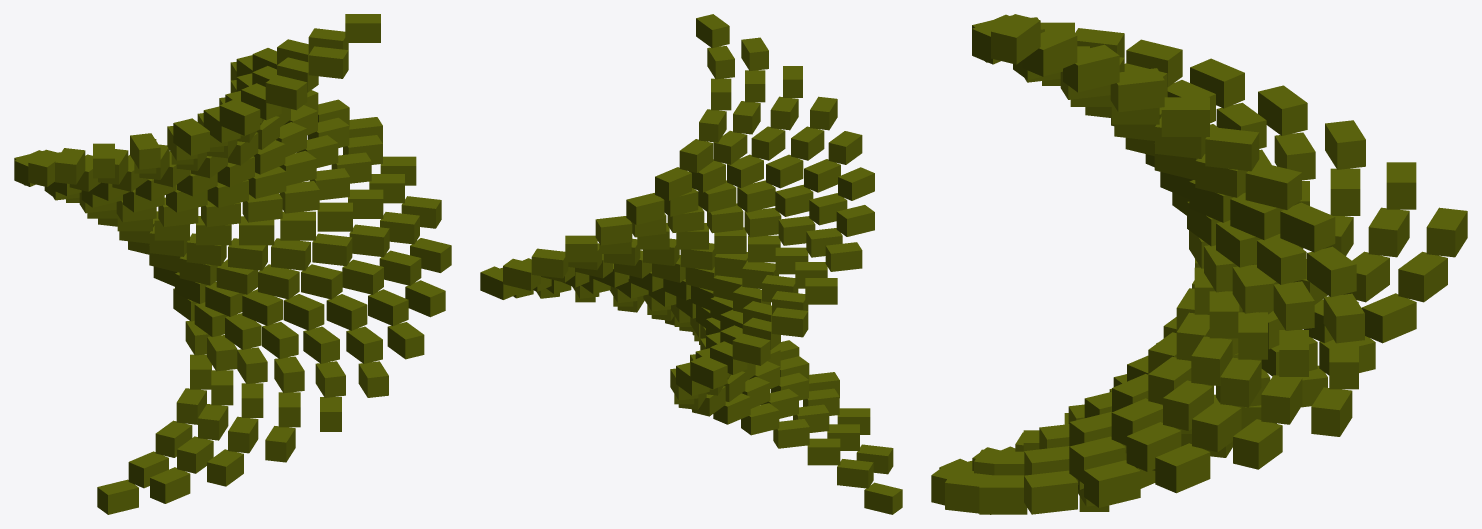
The model's file is GR_Spiral_0x00.fbx.
3 renders of one model, left to right at view 1: azimuth 30°, elevation 25°; view 2: azimuth 150°, elevation 25°; view 3: azimuth 270°, elevation 25°, orthographic. The views are drawn at different scales.
Visible parts, largest first — view 1: pCube1 (×12), pCube2 (×12), pCube3 (×11), pCube4 (×11), pCube5 (×10), pCube12 (×10), pCube6 (×10), pCube7 (×8), pCube8 (×6), pCube11 (×5), pCube9 (×4), pCube10 (×2); view 2: pCube12 (×12), pCube11 (×12), pCube10 (×9), pCube9 (×8), pCube8 (×7), pCube7 (×7), pCube6 (×7), pCube1 (×5), pCube2 (×5), pCube5 (×5), pCube3 (×4), pCube4 (×4); view 3: pCube12 (×9), pCube1 (×8), pCube11 (×7), pCube2 (×7), pCube3 (×7), pCube4 (×6), pCube5 (×6), pCube6 (×5), pCube10 (×4), pCube7 (×4), pCube8 (×5), pCube9 (×4).
Part boxes in pixels (box(x1,y1,x2,y2)): pCube1 (×12): box(97, 117, 451, 514); pCube2 (×12): box(128, 99, 421, 488); pCube3 (×11): box(155, 117, 389, 457); pCube4 (×11): box(176, 105, 352, 424); pCube5 (×10): box(190, 122, 319, 389); pCube12 (×10): box(14, 14, 380, 186); pCube6 (×10): box(185, 116, 286, 355); pCube7 (×8): box(175, 132, 258, 303); pCube8 (×6): box(149, 156, 227, 256); pCube11 (×5): box(98, 28, 348, 184); pCube9 (×4): box(116, 151, 190, 222); pCube10 (×2): box(112, 39, 308, 191); pCube12 (×12): box(690, 14, 874, 389); pCube11 (×12): box(676, 46, 847, 395); pCube10 (×9): box(711, 78, 815, 324); pCube9 (×8): box(699, 109, 781, 312); pCube8 (×7): box(679, 139, 747, 300); pCube7 (×7): box(655, 167, 725, 416); pCube6 (×7): box(626, 193, 750, 424); pCube1 (×5): box(480, 266, 902, 514); pCube2 (×5): box(503, 258, 873, 488); pCube5 (×5): box(595, 216, 779, 435); pCube3 (×4): box(531, 248, 840, 465); pCube4 (×4): box(565, 235, 809, 448); pCube12 (×9): box(972, 14, 1467, 257); pCube1 (×8): box(931, 387, 1352, 514); pCube11 (×7): box(1022, 27, 1447, 302); pCube2 (×7): box(994, 342, 1358, 484); pCube3 (×7): box(1039, 293, 1364, 449); pCube4 (×6): box(1112, 246, 1356, 412); pCube5 (×6): box(1148, 202, 1335, 373); pCube6 (×5): box(1194, 162, 1301, 314); pCube10 (×4): box(1063, 44, 1416, 343); pCube7 (×4): box(1187, 127, 1259, 246); pCube8 (×5): box(1154, 97, 1327, 407); pCube9 (×4): box(1110, 68, 1375, 375).
Bounding box in the file's own units: 99.68 × 115 × 90.41.
